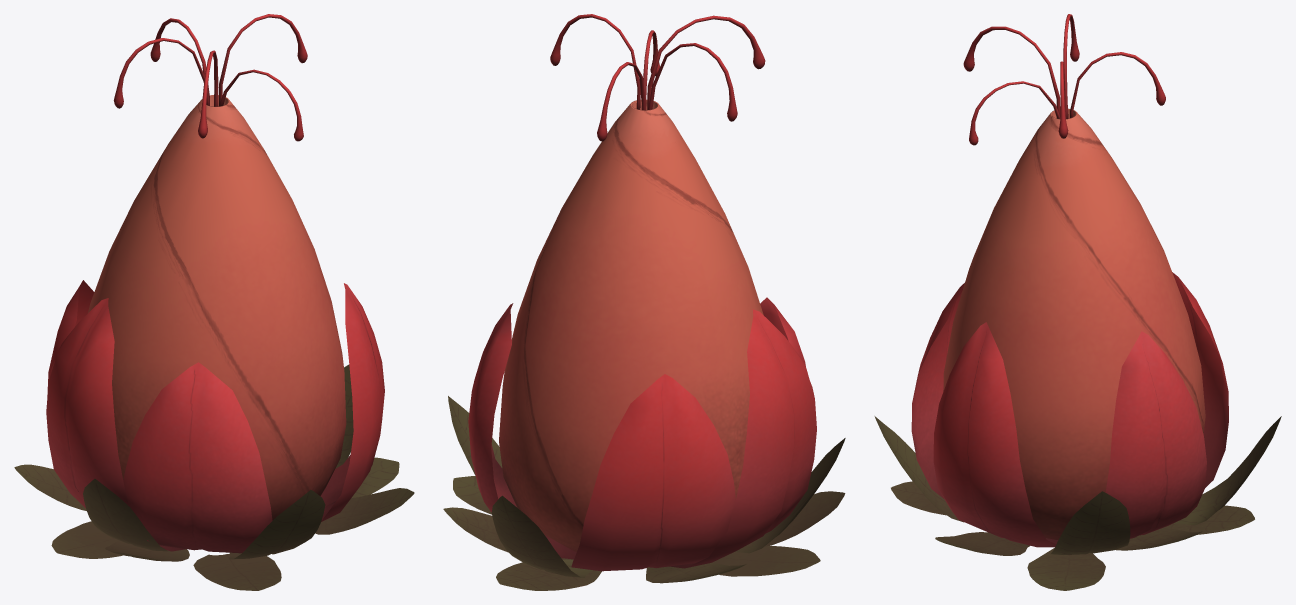
The model's file is flower2.fbx.
3 views of the same model, side by side, from view 1: azimuth 30°, elevation 25°; view 2: azimuth 150°, elevation 25°; view 3: azimuth 270°, elevation 25° (orthographic). The views are drawn at different scales.
Parts seen in each view (by area): view 1: PlantEgg4; view 2: PlantEgg4; view 3: PlantEgg4.
Boxes of the visible parts, x1,y1,x2,y2 form: PlantEgg4: (14,14,414,590); PlantEgg4: (443,14,845,590); PlantEgg4: (874,14,1281,590).
Size of the model in its own units: 5.6 by 7.66 by 5.89.
Materials: 1 (1 with a texture image).
